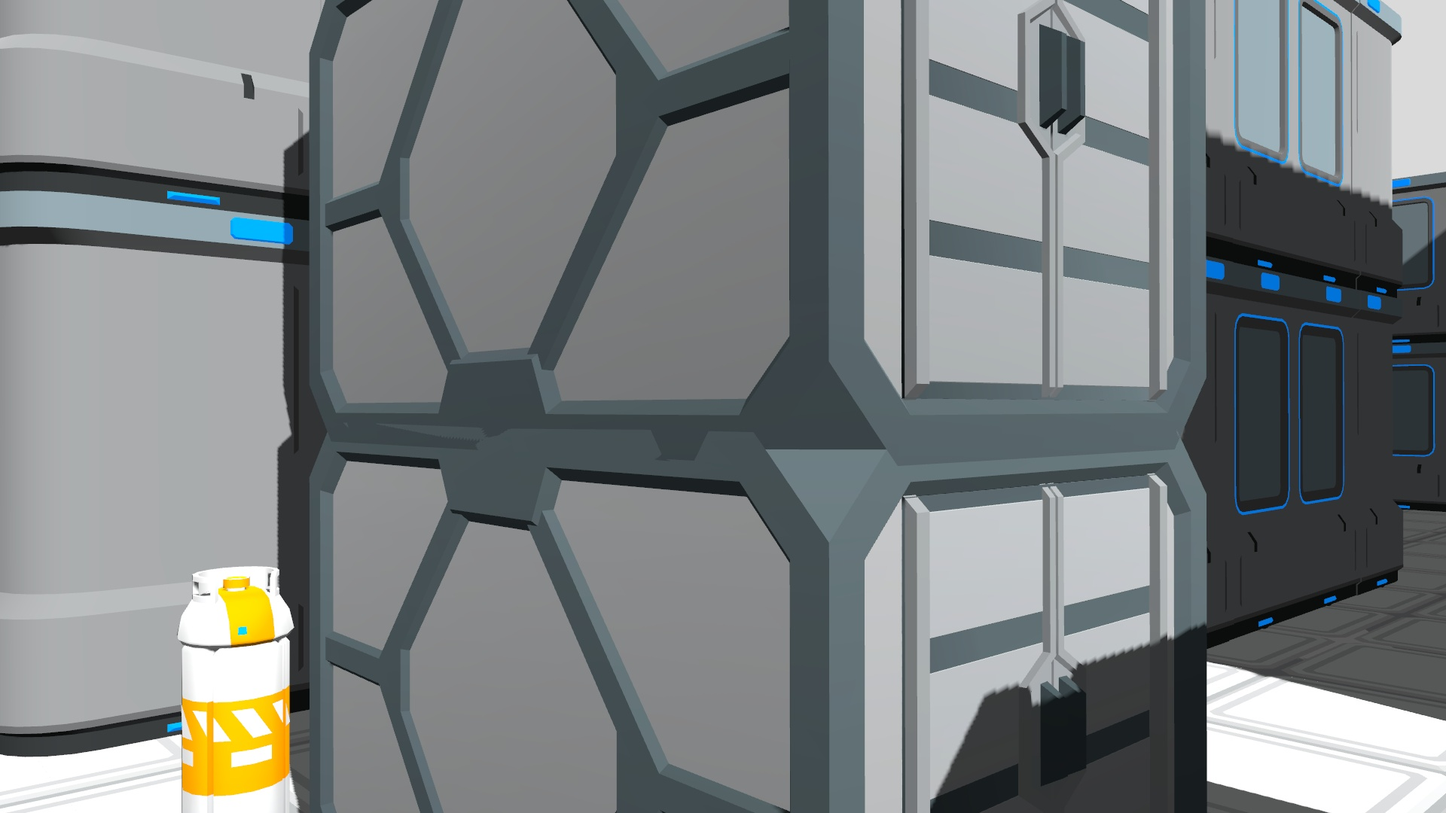yellow_barrel: (169, 561, 303, 813)
